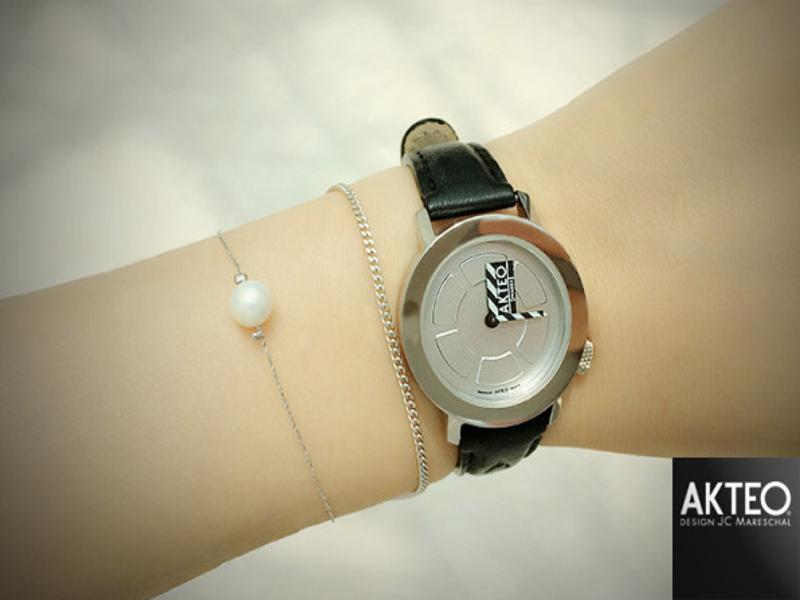watch: (389, 114, 594, 480)
